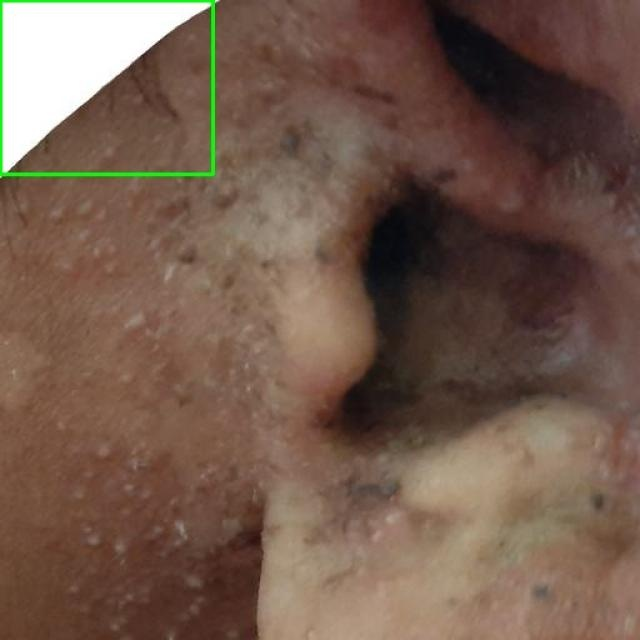Contact Dermatitis: (0, 0, 212, 174)
